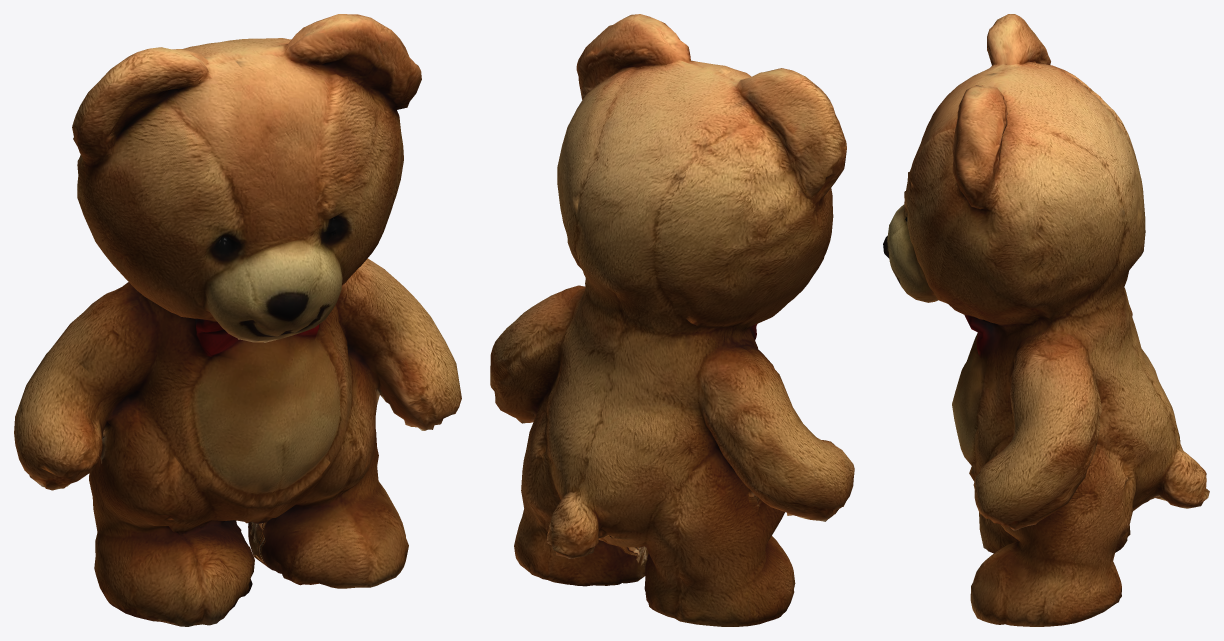
Rendered from teddy_bear.glb.
3 views of the same model, side by side, from view 1: azimuth 30°, elevation 25°; view 2: azimuth 150°, elevation 25°; view 3: azimuth 270°, elevation 25° (orthographic). The views are drawn at different scales.
Visible parts, largest first — view 1: Model.001; view 2: Model.001; view 3: Model.001.
Part boxes in pixels (box(x1,y1,x2,y2)): Model.001: box(14, 14, 461, 626); Model.001: box(490, 14, 854, 626); Model.001: box(883, 14, 1209, 626).
Bounding box in the file's own units: 167 × 228 × 132.
Materials: 1 (1 with a texture image).
